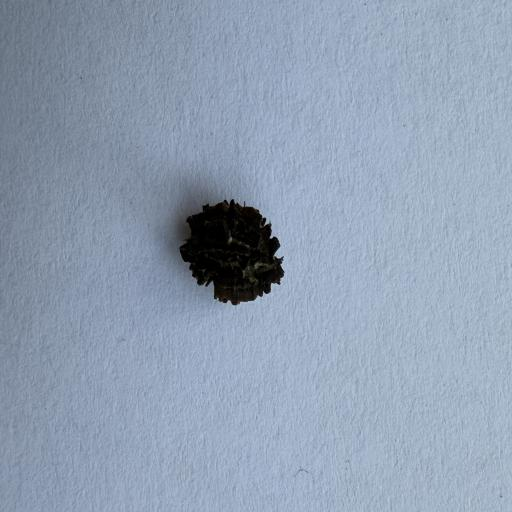papaya_seed: (181, 186, 304, 318)
